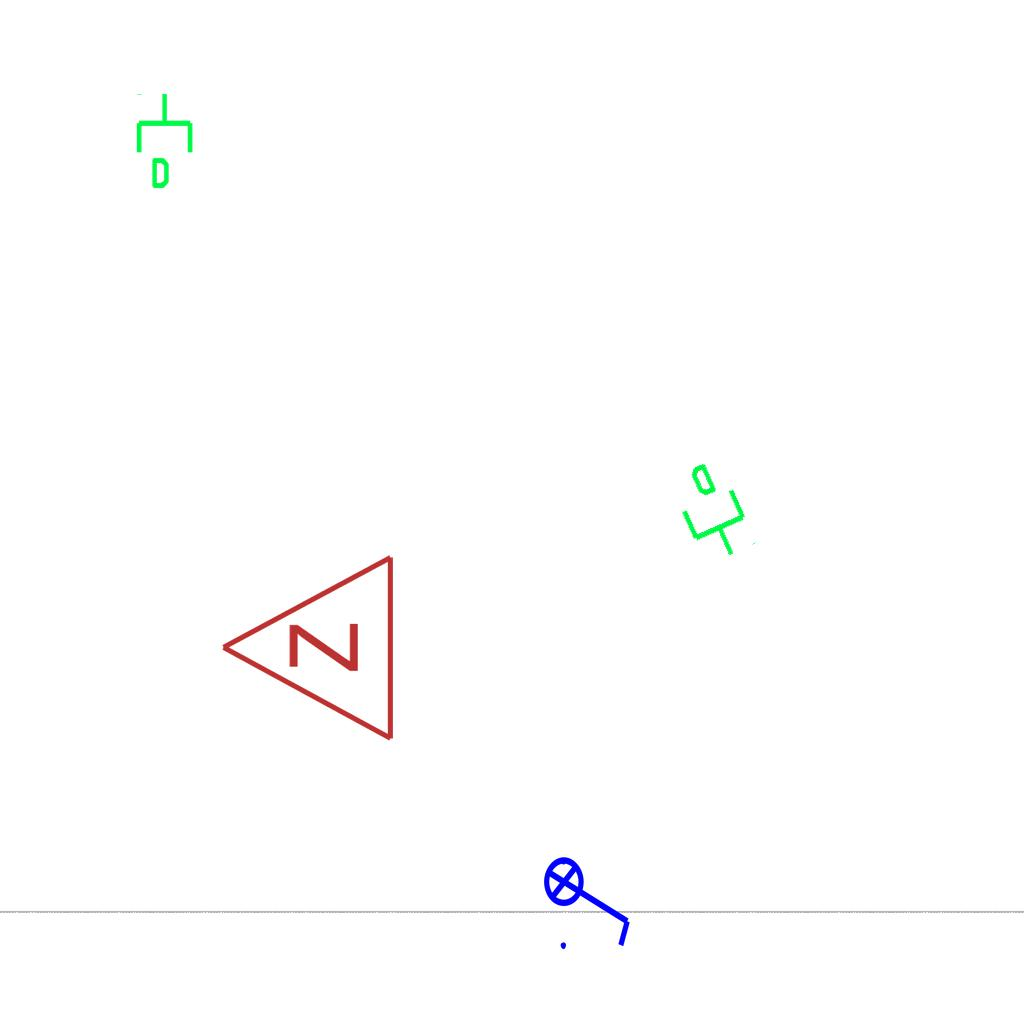Ausschalter_beleuchtet: (542, 843, 638, 955)
Datenanschluss_einfach: (658, 452, 763, 572), (132, 91, 201, 191)
Zimmersignalleuchte: (208, 552, 408, 748)
